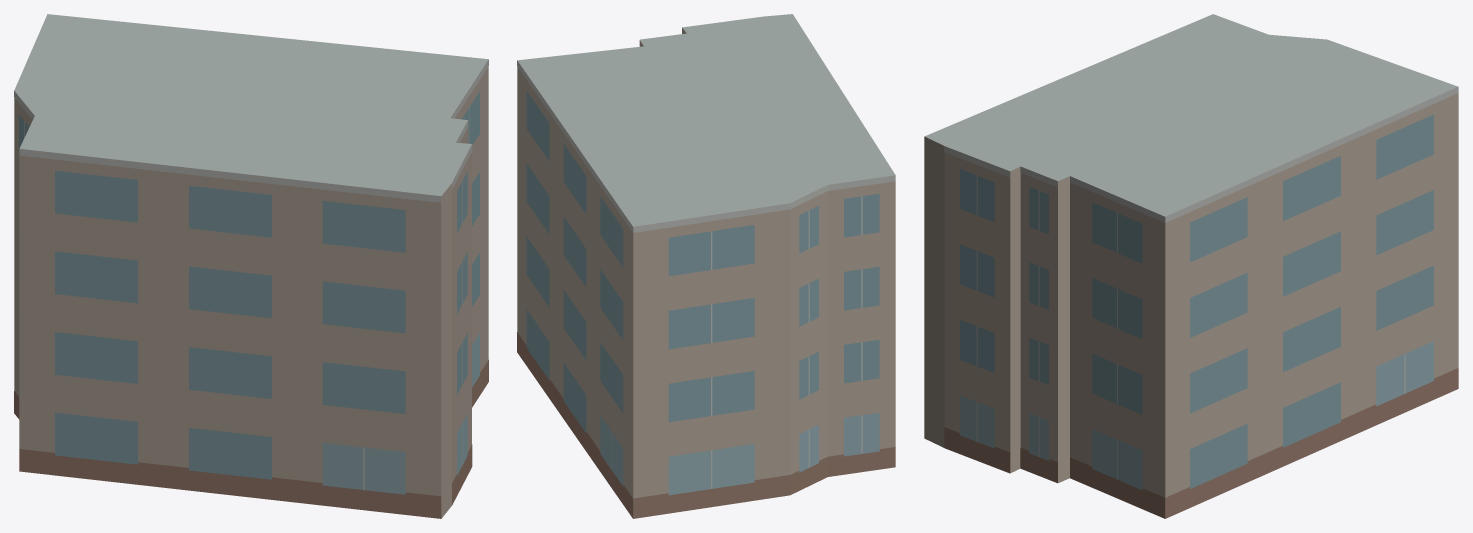
Rendered from survey-upis-32812920.glb.
The picture shows the model from 3 angles, left to right: view 1: azimuth 30°, elevation 25°; view 2: azimuth 150°, elevation 25°; view 3: azimuth 270°, elevation 25°; orthographic projection. The views are drawn at different scales.
Parts seen in each view (by area): view 1: survey-upis-32812920.tmp; view 2: survey-upis-32812920.tmp; view 3: survey-upis-32812920.tmp.
Boxes of the visible parts, x1=… form: survey-upis-32812920.tmp: x1=14, y1=14, x2=488, y2=518; survey-upis-32812920.tmp: x1=517, y1=14, x2=895, y2=518; survey-upis-32812920.tmp: x1=924, y1=14, x2=1458, y2=518.
Size of the model in its own units: 16.85 by 11.7 by 18.75.
